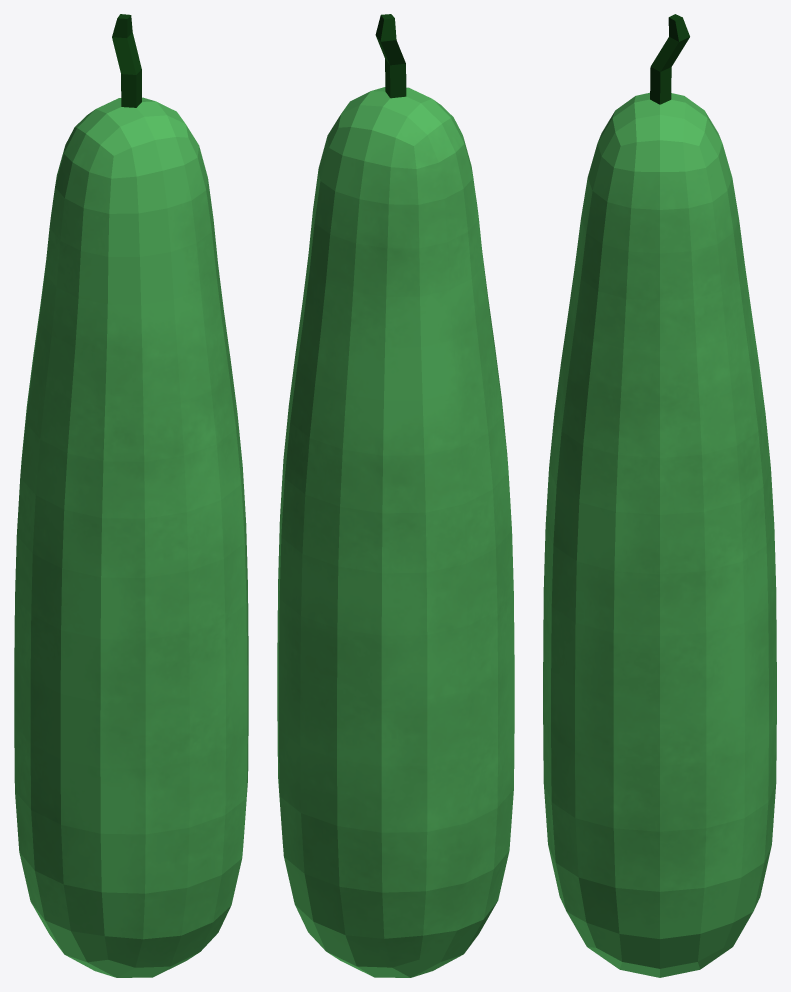
File: Upo.glb
3 views of the same model, side by side, from view 1: azimuth 30°, elevation 25°; view 2: azimuth 150°, elevation 25°; view 3: azimuth 270°, elevation 25° (orthographic).
Parts seen in each view (by area): view 1: Cube; view 2: Cube; view 3: Cube.
Boxes of the visible parts, x1=… form: Cube: x1=14, y1=14, x2=248, y2=977; Cube: x1=277, y1=14, x2=514, y2=977; Cube: x1=543, y1=14, x2=776, y2=977.
Bounding box in the file's own units: 1.83 × 8.23 × 1.83.
1 material, 1 textured.
